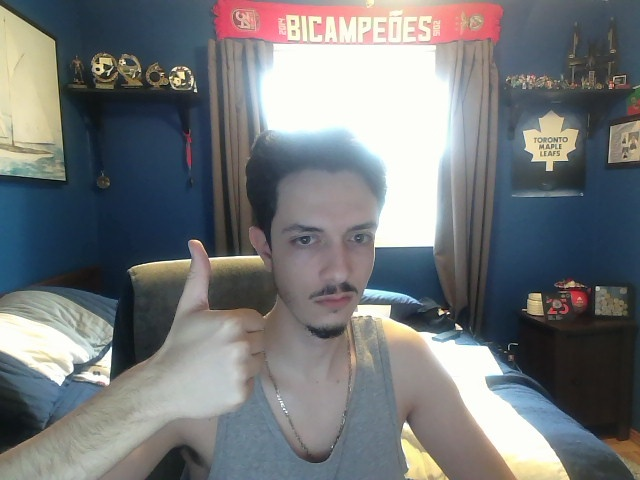ThumbsUp: (153, 238, 266, 418)
